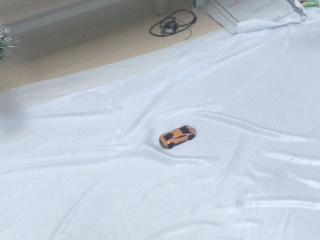toy_car: (159, 124, 196, 148)
